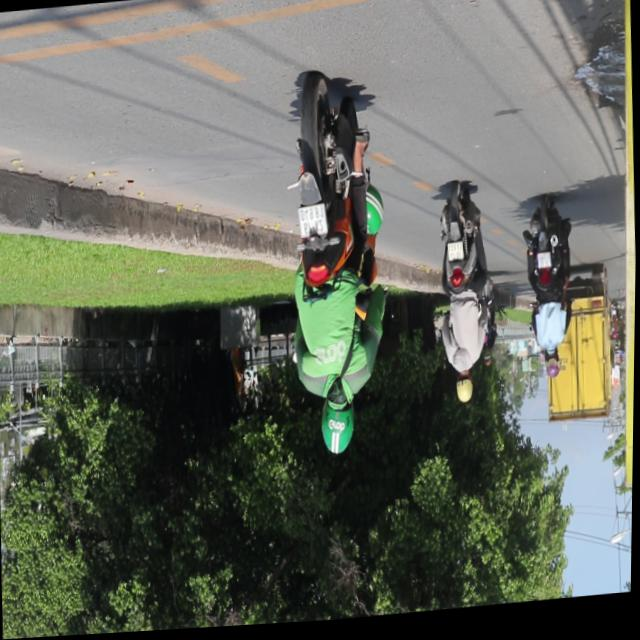helmet: (318, 401, 356, 461), (454, 376, 474, 410)
licenseplate: (278, 74, 394, 466), (430, 187, 493, 414)
nohelmet: (297, 207, 326, 242), (446, 246, 463, 266)
